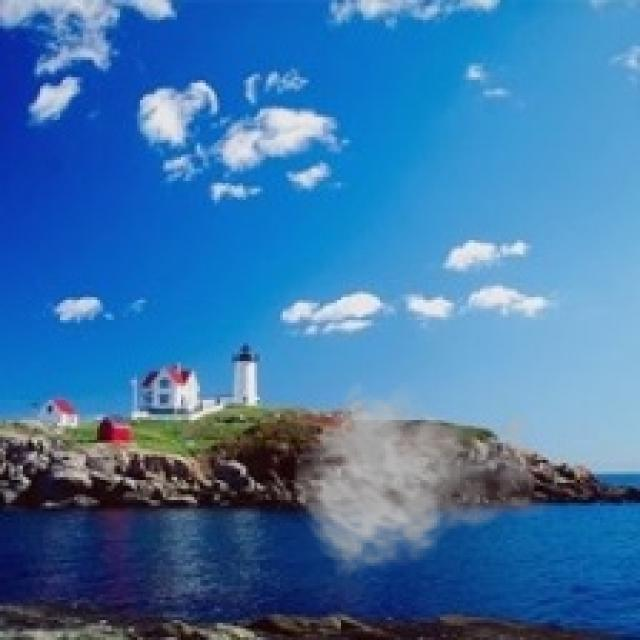smoke: (292, 377, 554, 577)
